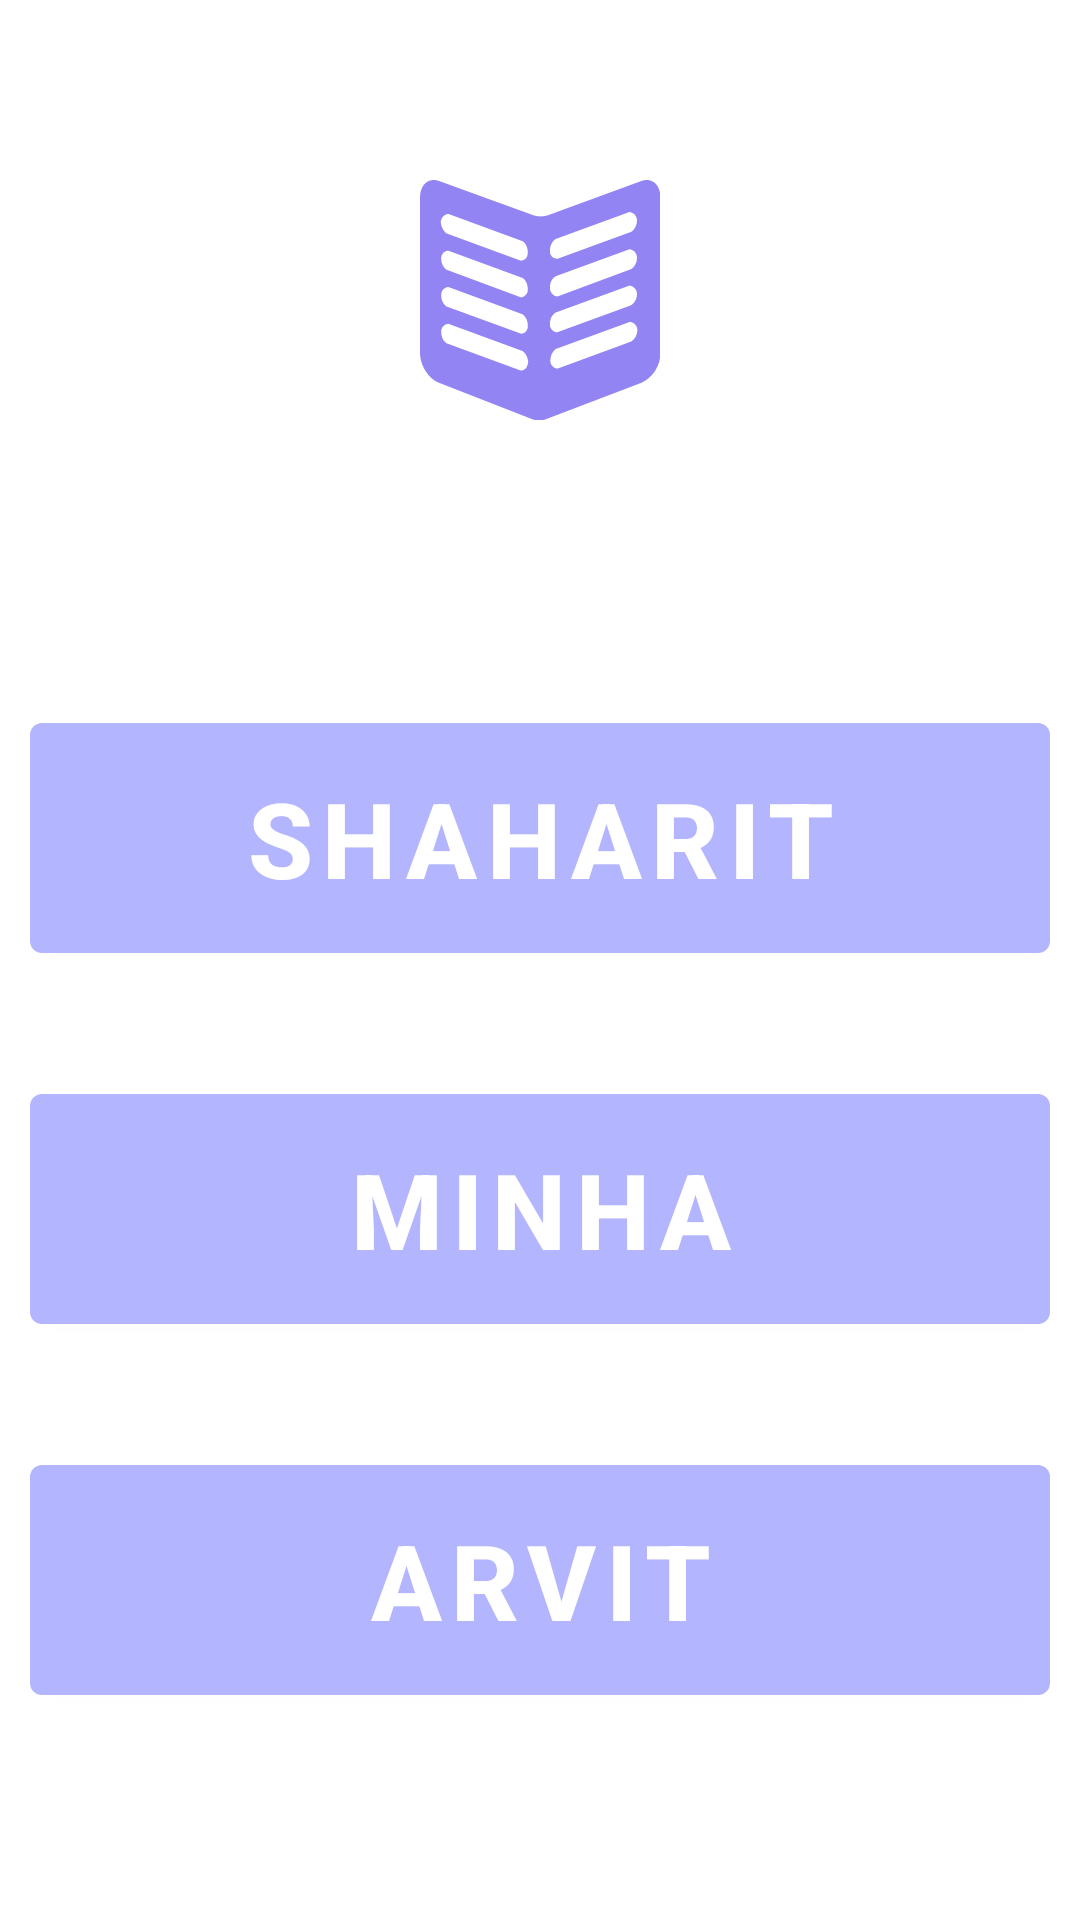

Screen size 1080×1920. Icon name, then its center in pixels as (x,y):
book: (540,300)
